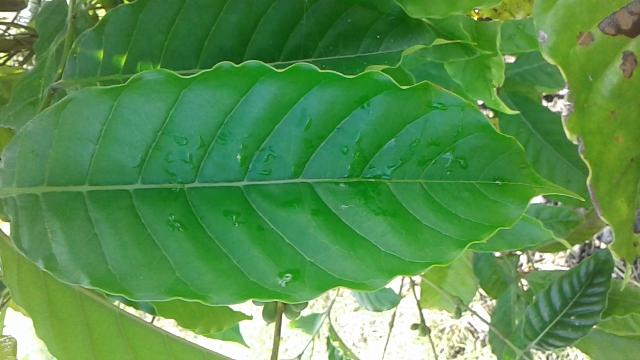healthy: (1, 58, 580, 302)
